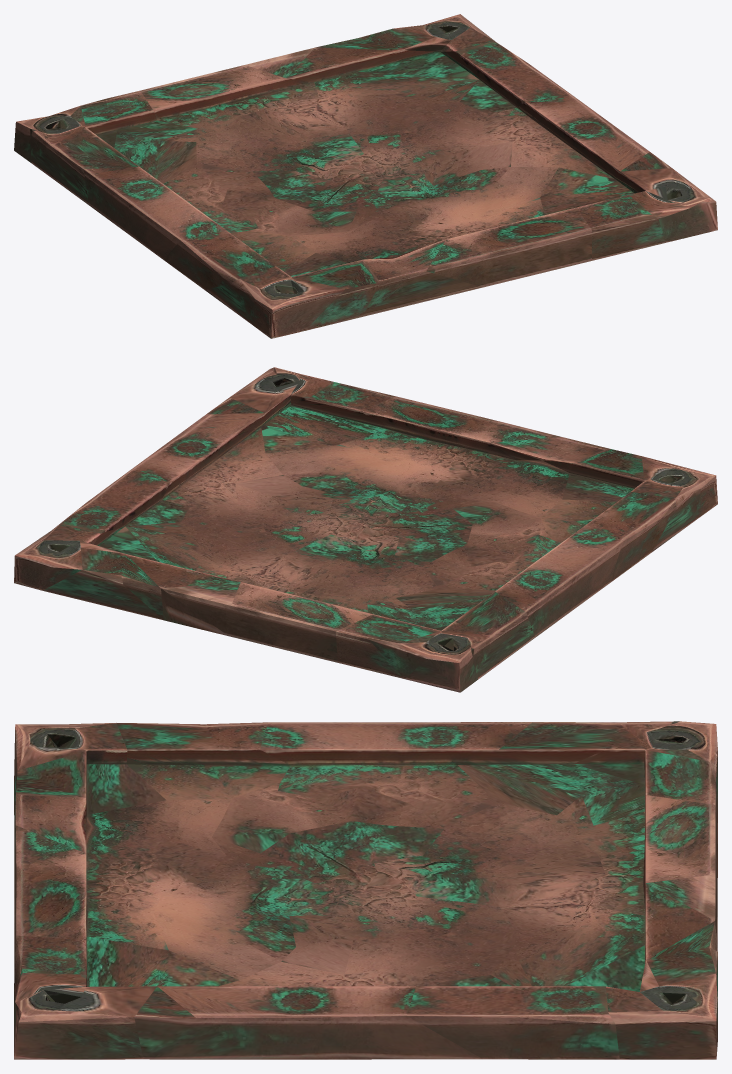
File: copper_plate_a.glb
3 renders of one model, top to bottom at view 1: azimuth 30°, elevation 25°; view 2: azimuth 150°, elevation 25°; view 3: azimuth 270°, elevation 25°, orthographic. The views are drawn at different scales.
Parts seen in each view (by area): view 1: mesh_node; view 2: mesh_node; view 3: mesh_node.
Part boxes in pixels (x1,y1,x2,y2): mesh_node: (14, 14, 717, 338); mesh_node: (14, 367, 717, 692); mesh_node: (14, 721, 717, 1059).
Bounding box in the file's own units: 1.9 × 0.1314 × 1.9.
1 material, 1 textured.
